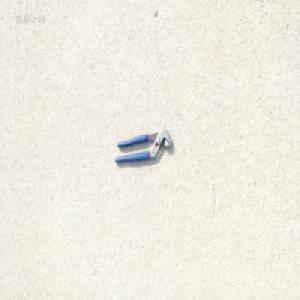Pliers: (114, 127, 173, 165)
